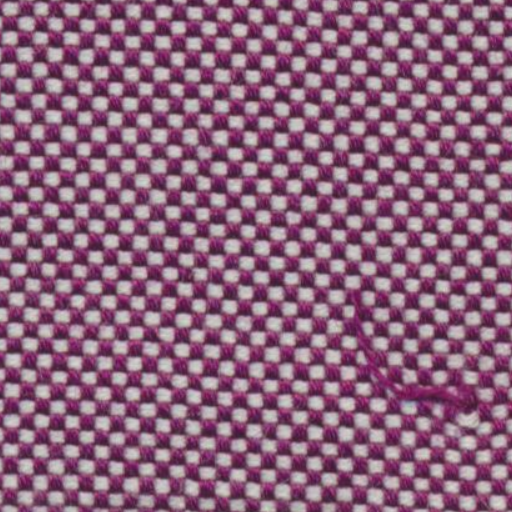DuanSha: (326, 271, 500, 443)
